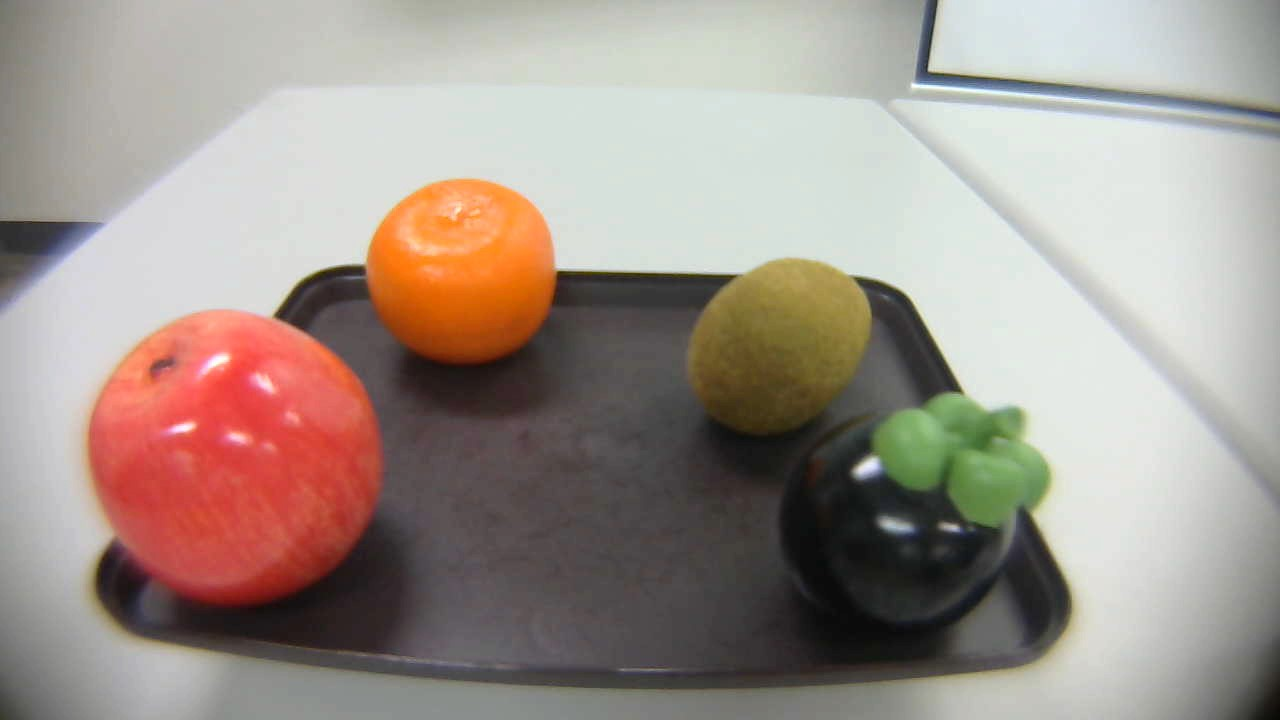kiwi fruit: (675, 258, 885, 451)
mangosteen: (778, 386, 1053, 638)
orange: (357, 173, 560, 376)
red apple: (82, 306, 392, 616)
